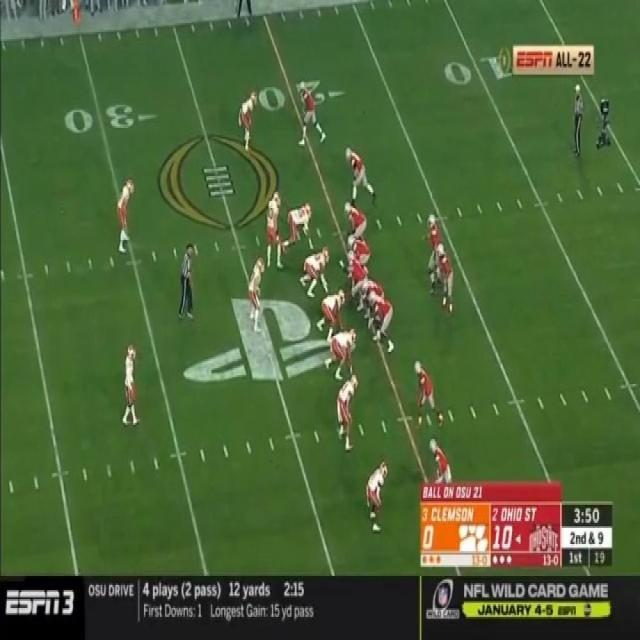center: (342, 252, 367, 286)
db: (364, 455, 386, 526), (337, 377, 353, 444), (238, 92, 257, 144)
lb: (266, 192, 284, 267), (248, 258, 266, 329)
qb: (429, 210, 441, 286)
